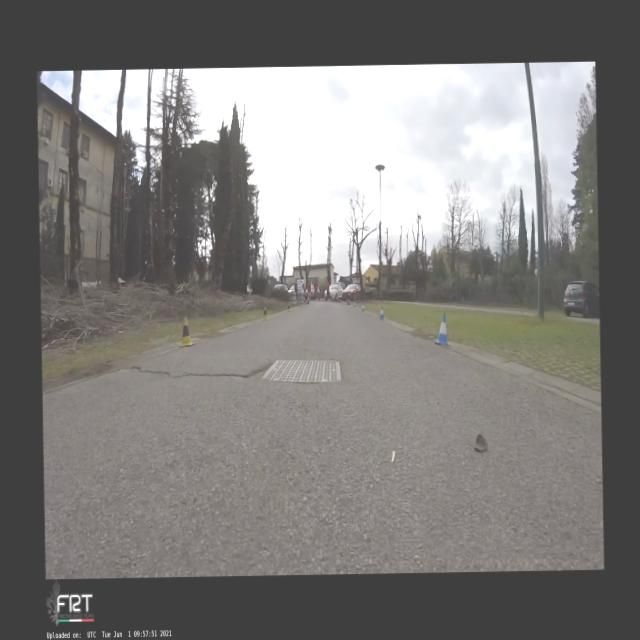blue_cone: (434, 312, 449, 346), (378, 306, 385, 320), (362, 304, 364, 312), (353, 300, 355, 306)
yellow_cone: (177, 316, 195, 346), (262, 307, 269, 319), (287, 303, 291, 311)
